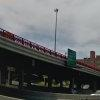Bridge: (8, 19, 95, 80)
